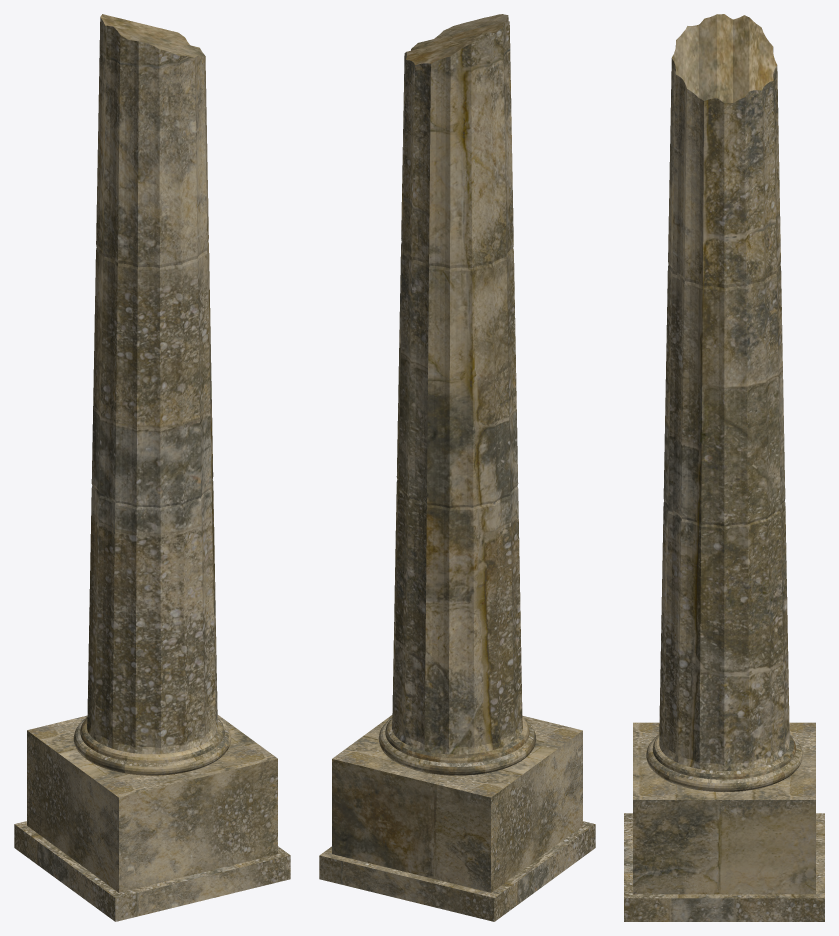
File: Pillar broken long 1.fbx
The picture shows the model from 3 angles, left to right: view 1: azimuth 30°, elevation 25°; view 2: azimuth 150°, elevation 25°; view 3: azimuth 270°, elevation 25°; orthographic projection.
Parts seen in each view (by area): view 1: Pillar broken long 1; view 2: Pillar broken long 1; view 3: Pillar broken long 1.
Part boxes in pixels (<box>): Pillar broken long 1: <box>14,14,290,921</box>; Pillar broken long 1: <box>319,14,595,921</box>; Pillar broken long 1: <box>624,14,824,921</box>.
Size of the model in its own units: 308 by 1428 by 308.
